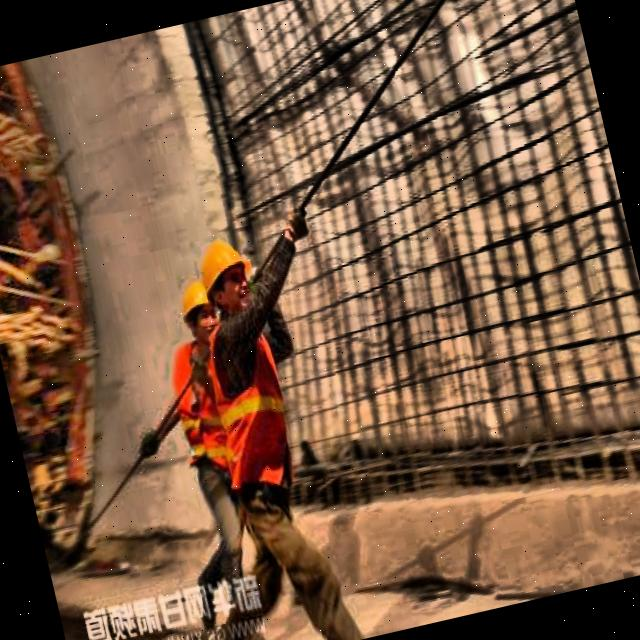helmet: (190, 226, 262, 326), (171, 276, 223, 346)
